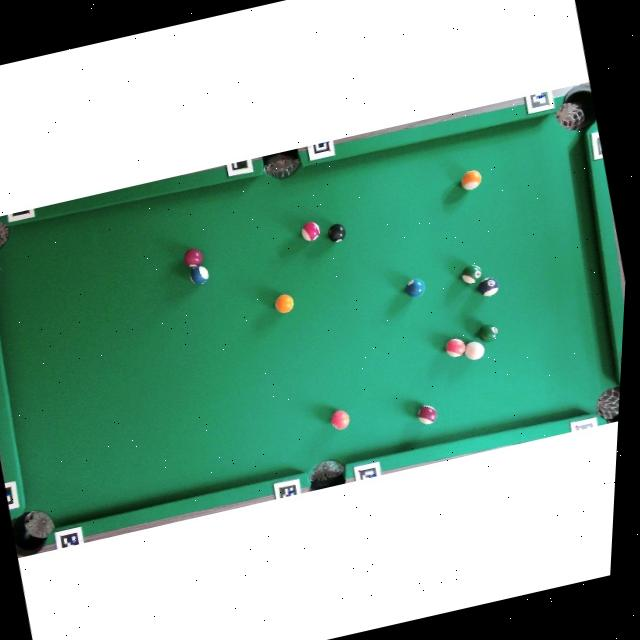cue ball: (462, 338, 487, 362)
other: (458, 168, 483, 192), (415, 402, 439, 427), (475, 275, 501, 298), (442, 336, 468, 359), (328, 407, 352, 431), (187, 262, 211, 286), (181, 246, 205, 270), (459, 262, 484, 285), (298, 220, 322, 243), (325, 222, 348, 244), (403, 276, 426, 298), (272, 292, 295, 314), (476, 322, 500, 343)
